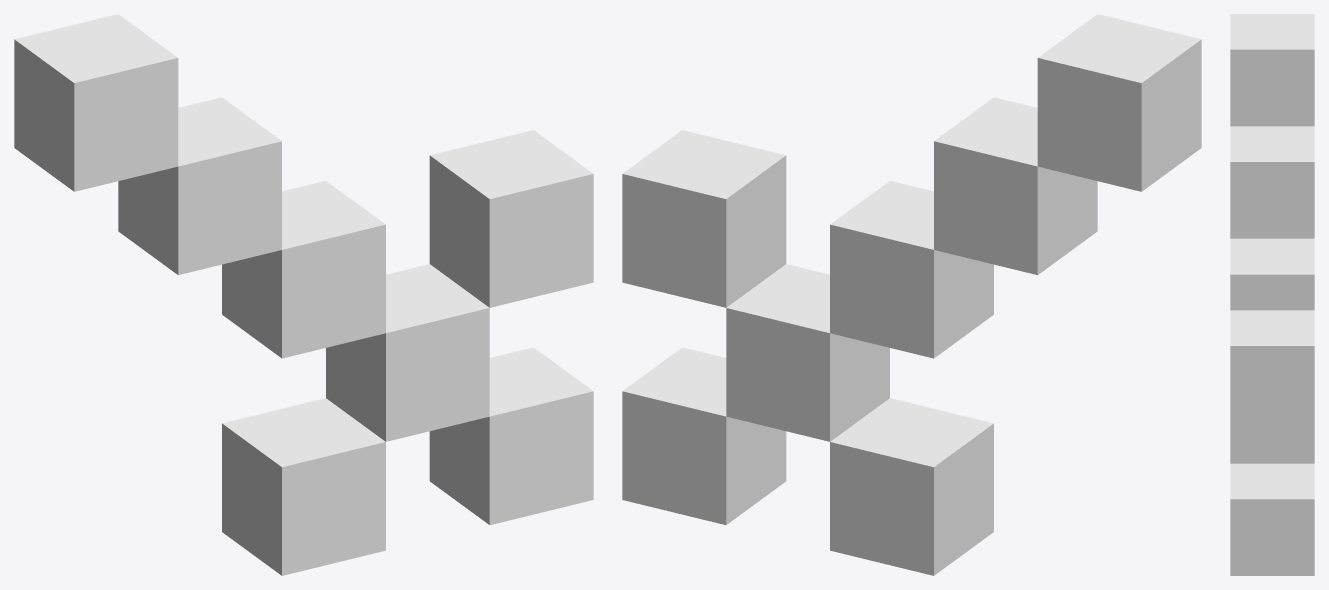
Rendered from Knife-White.vox.obj.
The picture shows the model from 3 angles, left to right: view 1: azimuth 30°, elevation 25°; view 2: azimuth 150°, elevation 25°; view 3: azimuth 270°, elevation 25°; orthographic projection. The views are drawn at different scales.
Size of the model in its own units: 0.5 by 0.5 by 0.1.
Materials: 1 (1 with a texture image).
